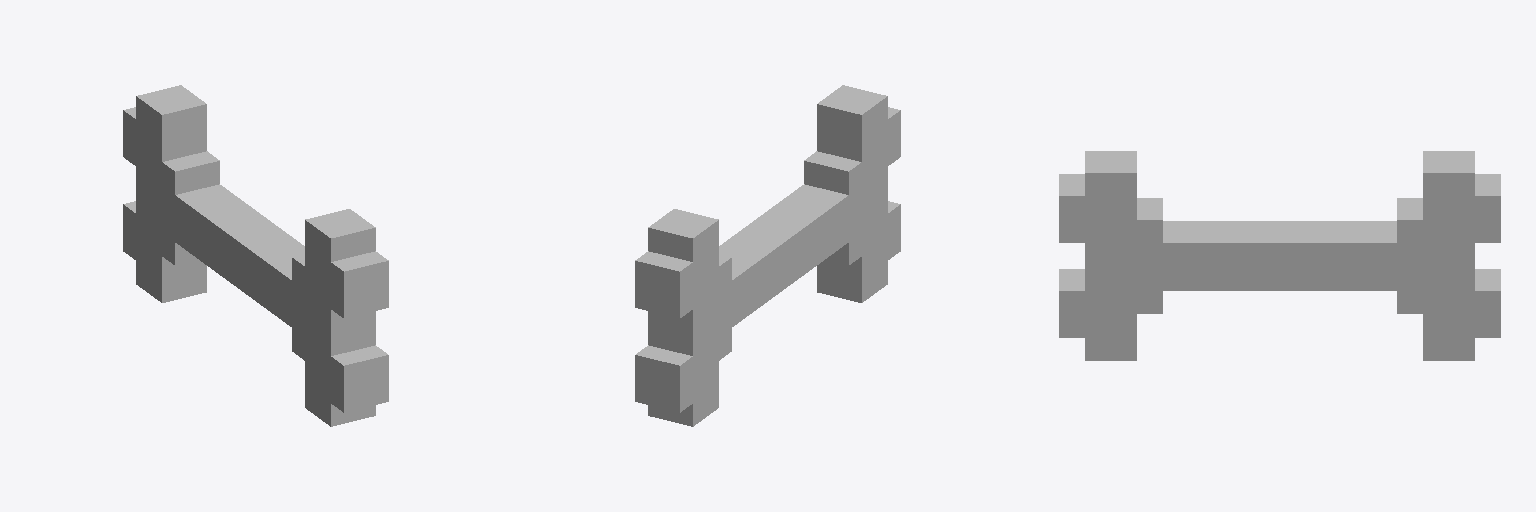
The model's file is Package 01 Necro Dungeon-34.obj.
The picture shows the model from 3 angles: view 1: azimuth 30°, elevation 25°; view 2: azimuth 150°, elevation 25°; view 3: azimuth 270°, elevation 25°; orthographic projection.
Visible parts, largest first — view 1: object 1; view 2: object 1; view 3: object 1.
Boxes of the visible parts, <box> form: object 1: <box>123,85,388,426</box>; object 1: <box>635,85,900,426</box>; object 1: <box>1059,151,1500,360</box>.
Bounding box in the file's own units: 0.2 × 0.8 × 1.7.